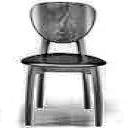chair_success: (13, 0, 121, 127)
